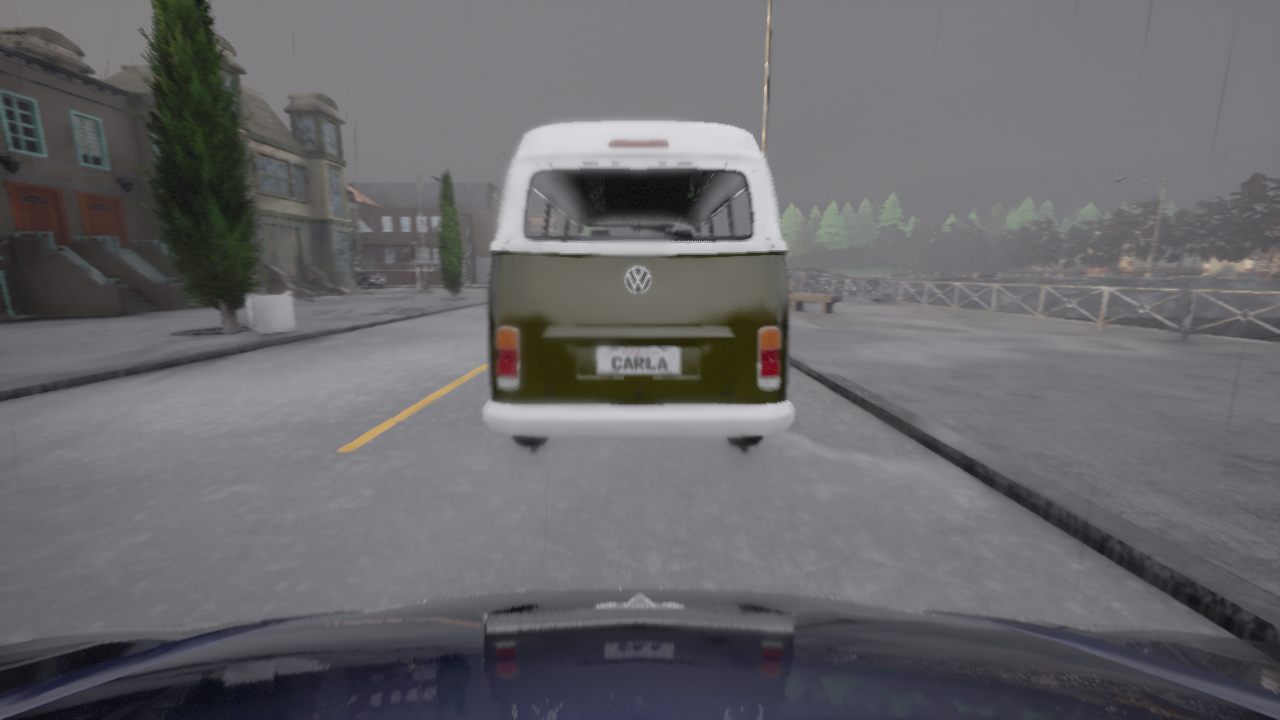cyclist: (0, 588, 1279, 719), (483, 122, 794, 446), (787, 267, 851, 282), (354, 264, 387, 289)
pedestrian: (434, 265, 439, 285)
